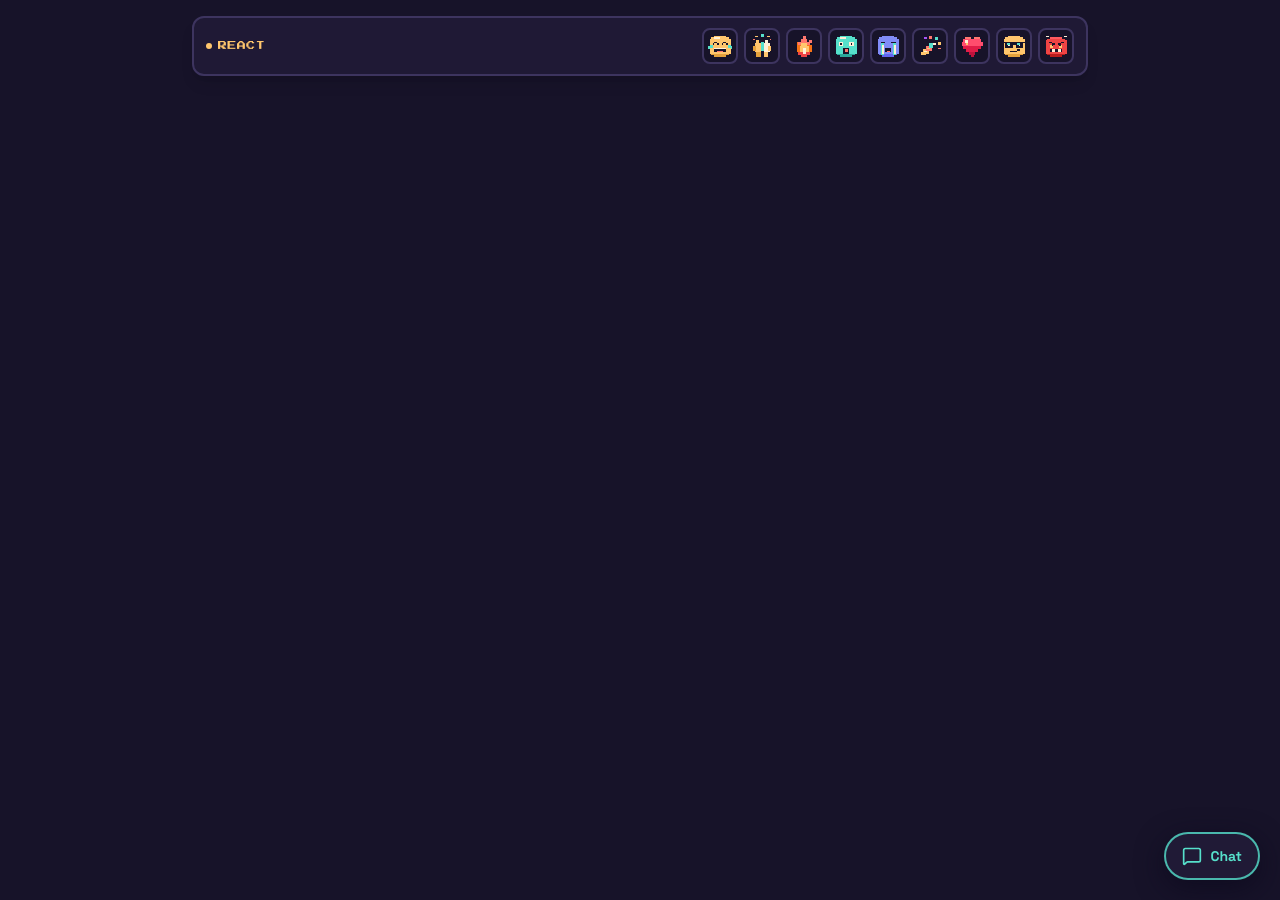
Persistent Arcade Rooms, Board-Anchored Pixel Reactions, Country UI & Footer › renders custom pixel-art SVG illustrations for all 9 reactions including Angry and compact chat toggle
This screenshot has width=1280, height=900.
Later steps or results of the test are not shown.
Check: the element with test id "board-reaction-toolbar" is shown, box 192,16 -> 1088,76
Check: the button with test id "reaction-btn-😡" is shown, box 1038,28 -> 1074,64
Step 1. Click the button with test id "room-chat-toggle" → (1212, 856), box 1164,832 -> 1260,880
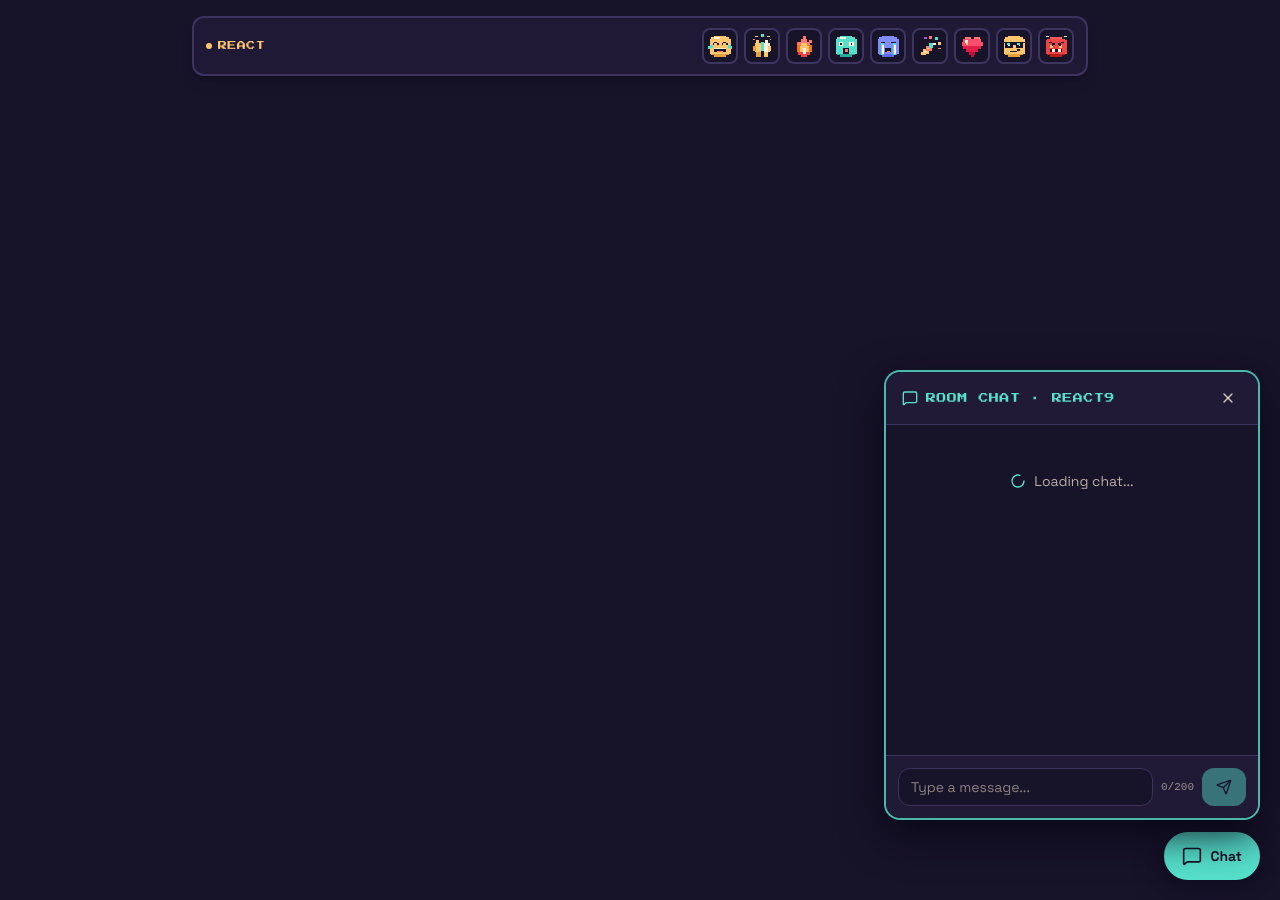
Check: the element with test id "room-chat-panel" is shown, box 884,370 -> 1260,820
Step 2. Click the button with test id "room-chat-close" → (1228, 398), box 1214,384 -> 1242,412
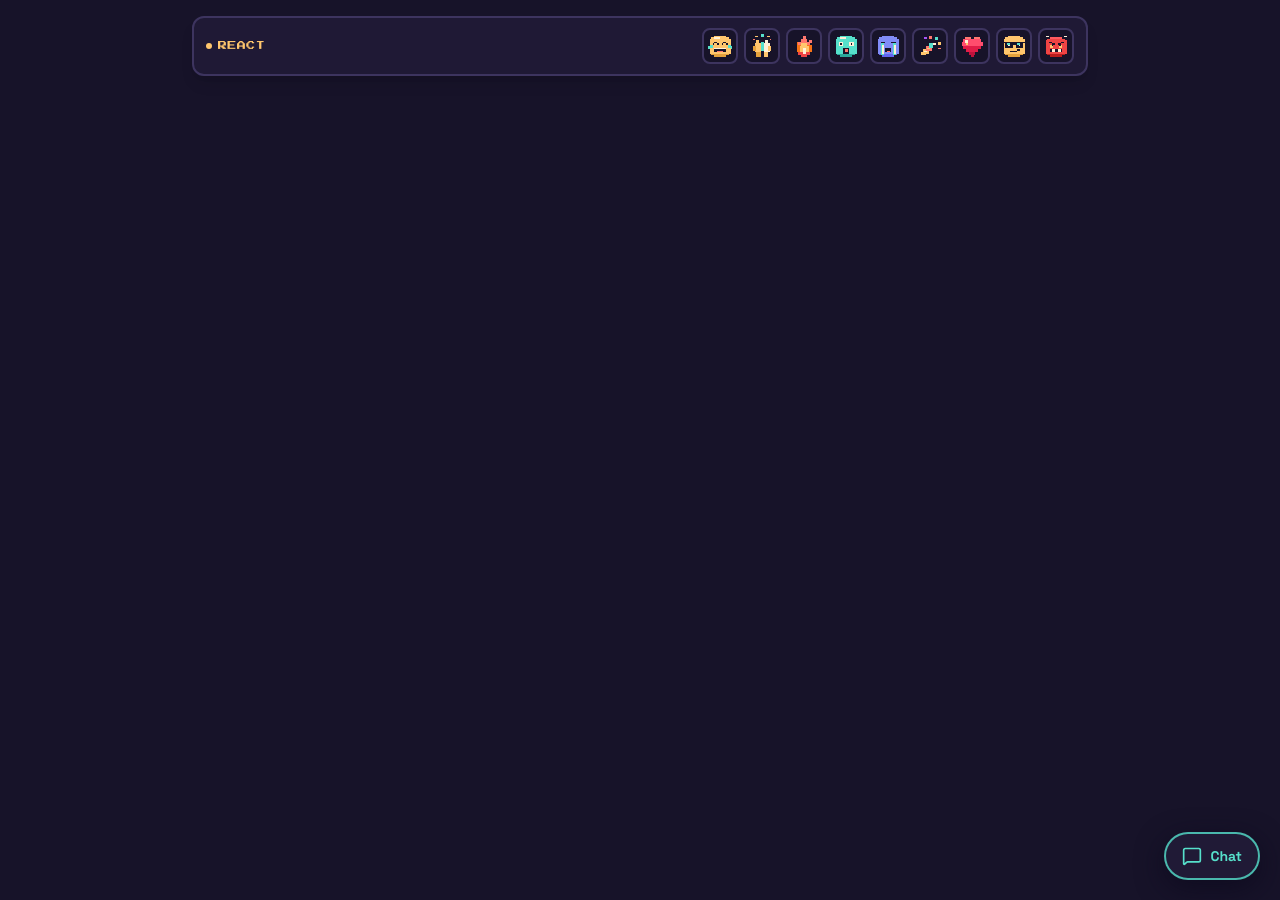
Check: the element with test id "room-chat-panel" is gone
